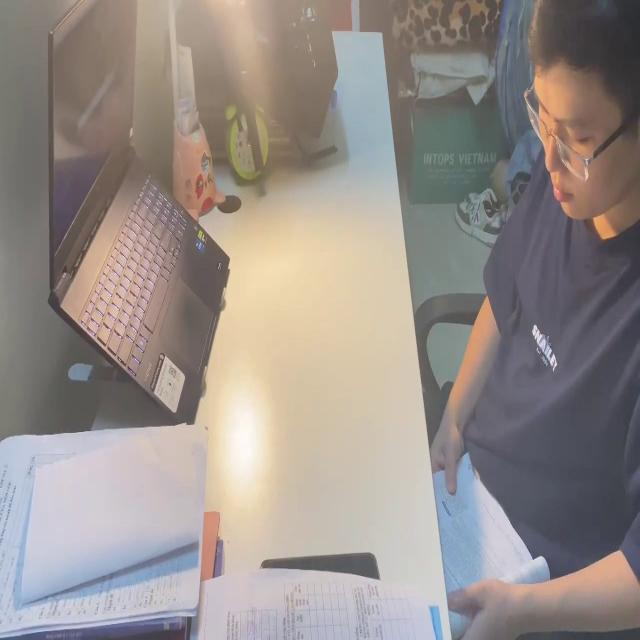book: (0, 428, 212, 640), (432, 446, 558, 640), (198, 559, 446, 640)
laptop: (46, 1, 233, 419)
phone: (259, 552, 381, 578)
student: (429, 0, 640, 640)
